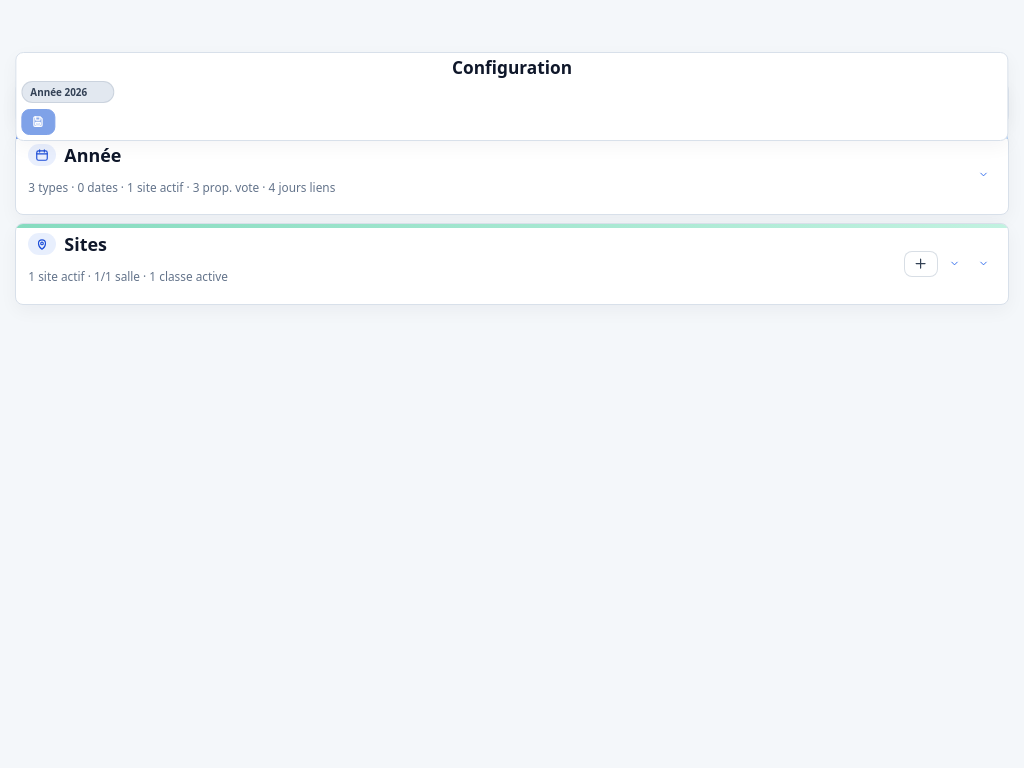
Test: PlanningConfiguration › replie le rythme du site en masquant les champs temps
Click the button named "Ouvrir le bloc sites" at (984, 264), box [972,252,996,276]
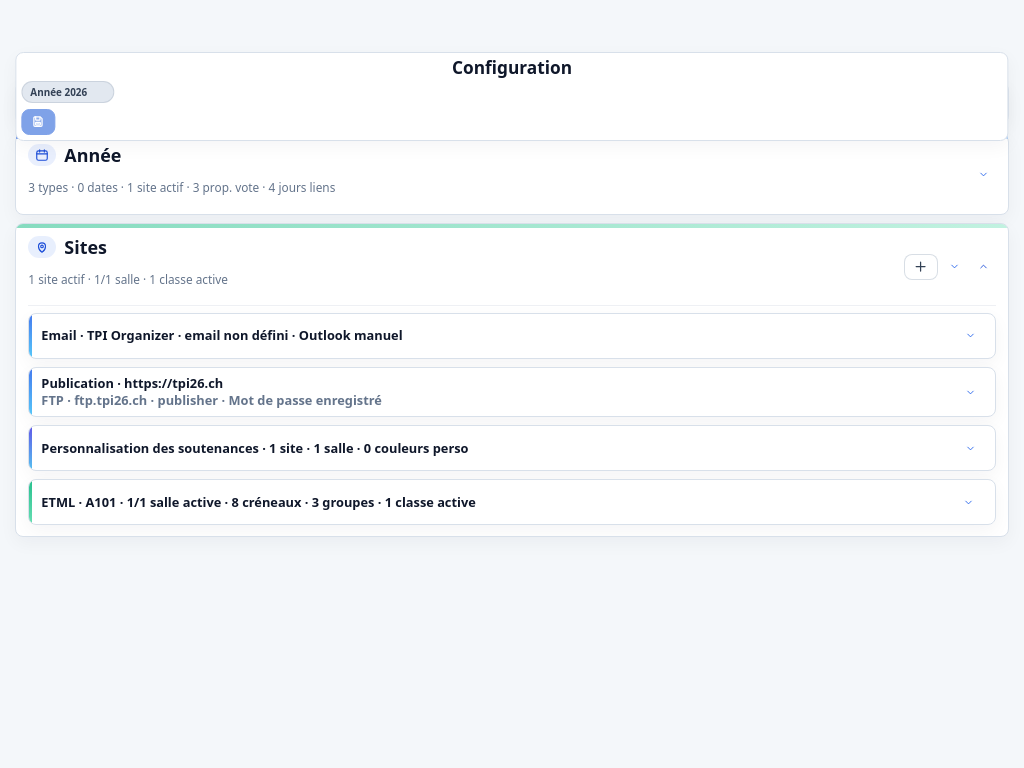
Click the button named "Ouvrir le site ETML" at (969, 502), box [957,490,981,514]
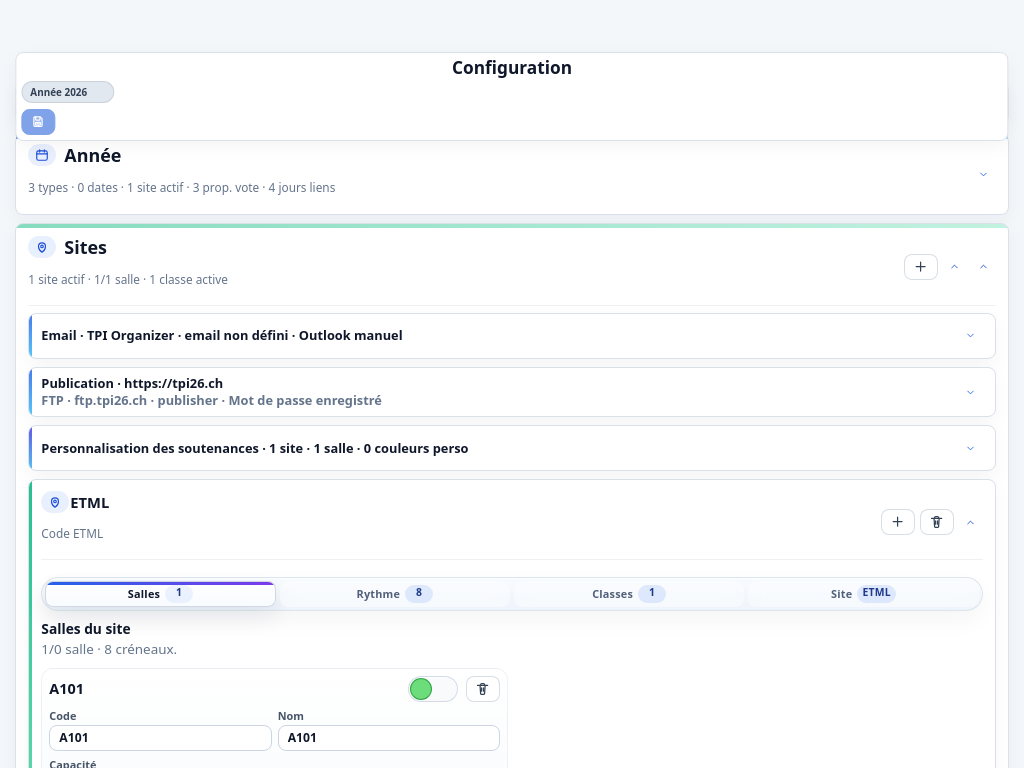
Expected: the button named "Réduire le site ETML" is shown, [959,510,983,534]
Click the tab "Rythme 8" at (395, 594), box [280,581,510,607]
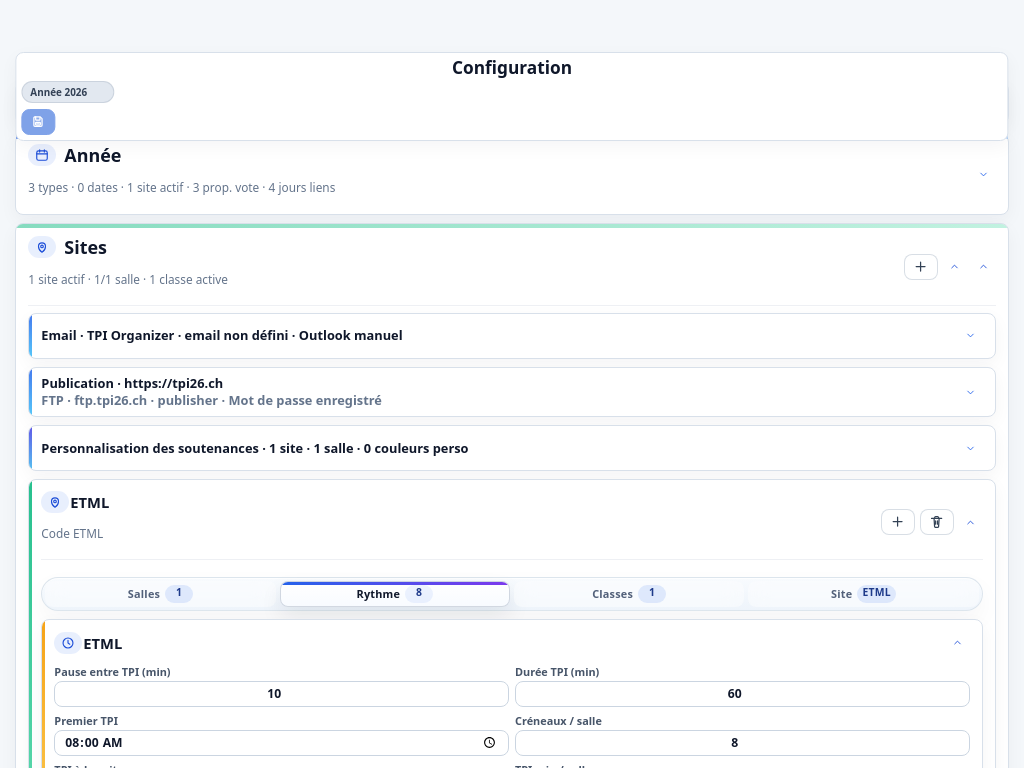
Expected: the time field labelled "Premier TPI" is shown, [54,730,509,756]
Click the button named "Réduire le rythme ETML" at (958, 643), box [946,631,970,655]
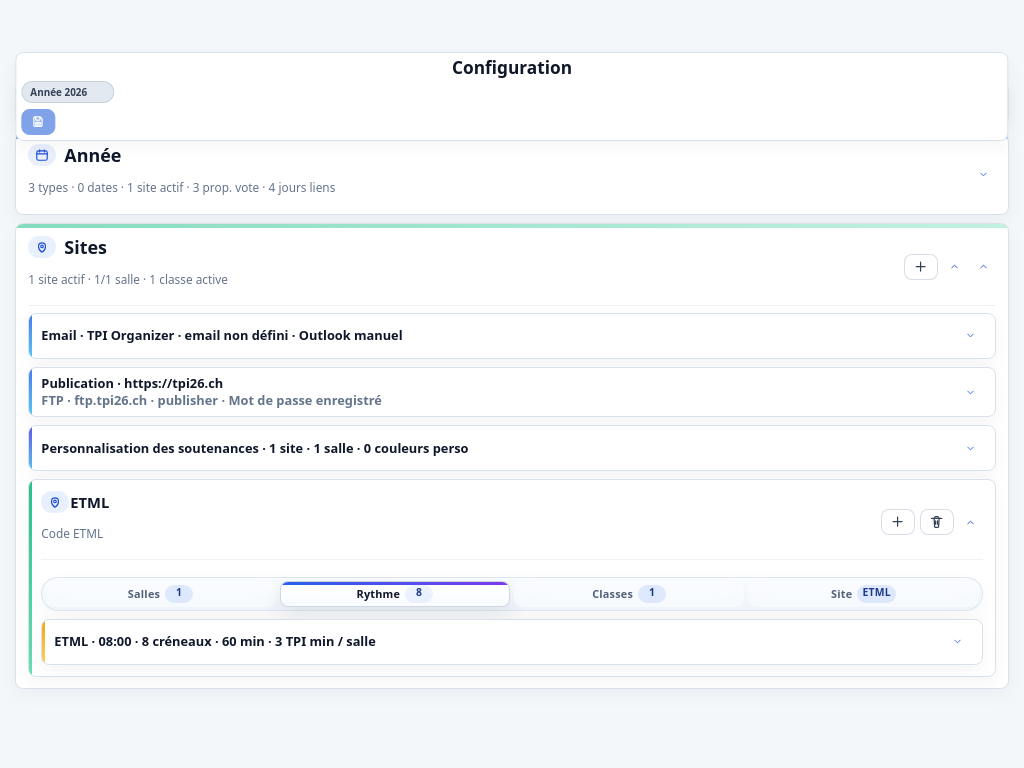
Expected: the button named "Ouvrir le rythme ETML" is shown, [946,630,970,654]
